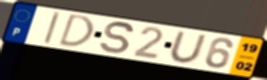2: (130, 26, 165, 60)
6: (203, 37, 234, 69)
D: (56, 13, 96, 49)
I: (42, 11, 62, 46)
S: (99, 21, 136, 56)
U: (168, 30, 209, 65)
